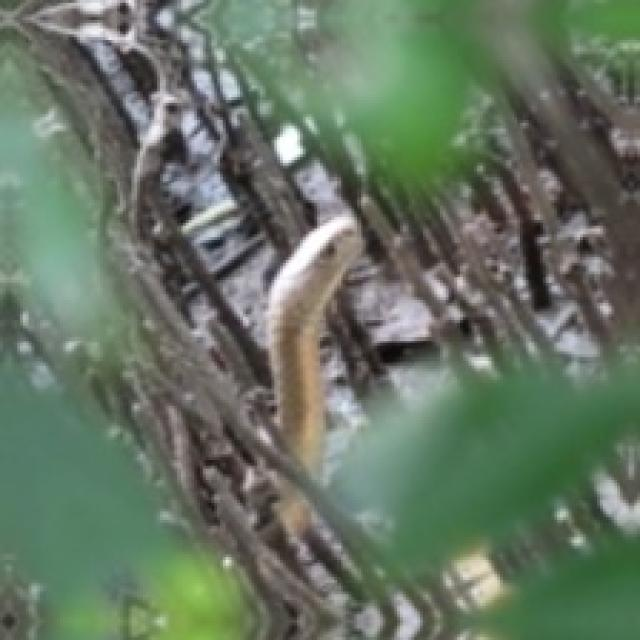king cobra: (0, 0, 637, 637), (314, 363, 560, 566)
